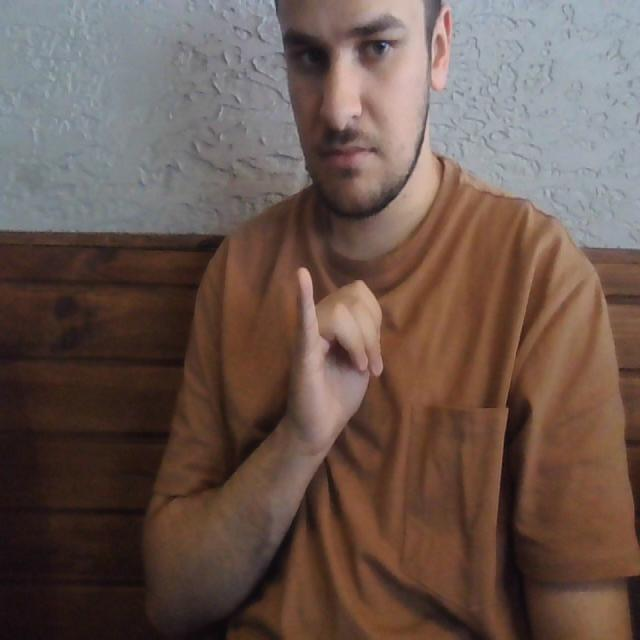kotu: (279, 254, 386, 416)
